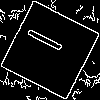I: (25, 25, 73, 59)
